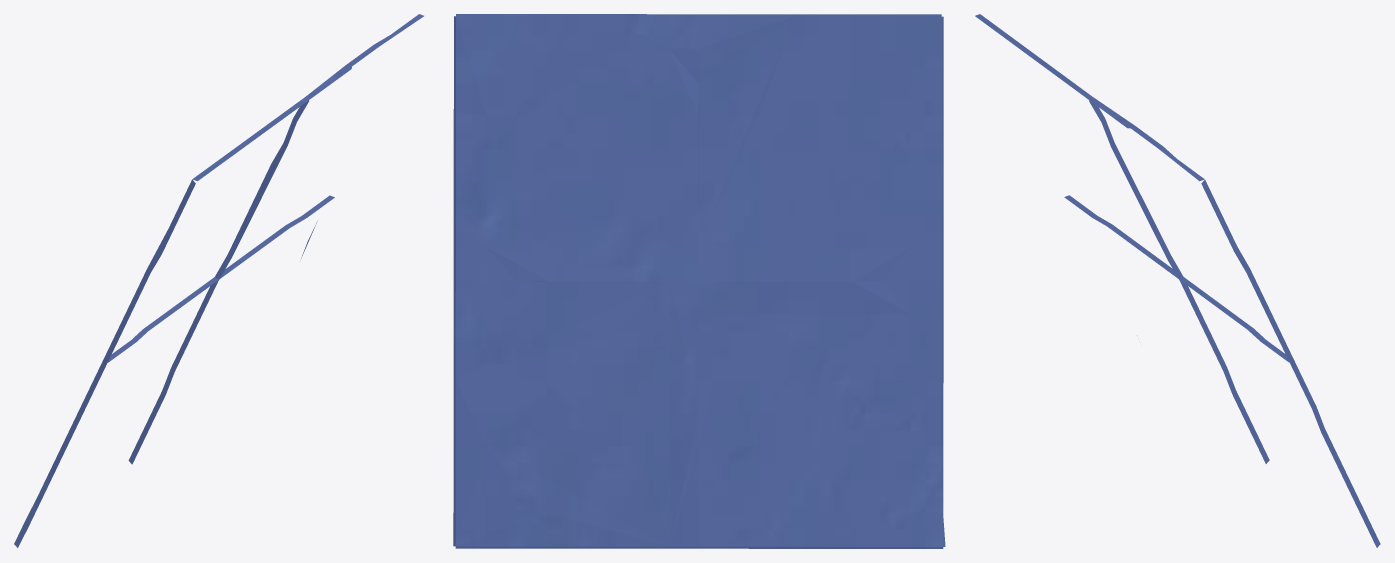
3 views of the same model, side by side, from view 1: azimuth 30°, elevation 25°; view 2: azimuth 150°, elevation 25°; view 3: azimuth 270°, elevation 25° (orthographic). The views are drawn at different scales.
Size of the model in its own units: 79242 by 72122 by 64459.
1 material, 1 textured.
